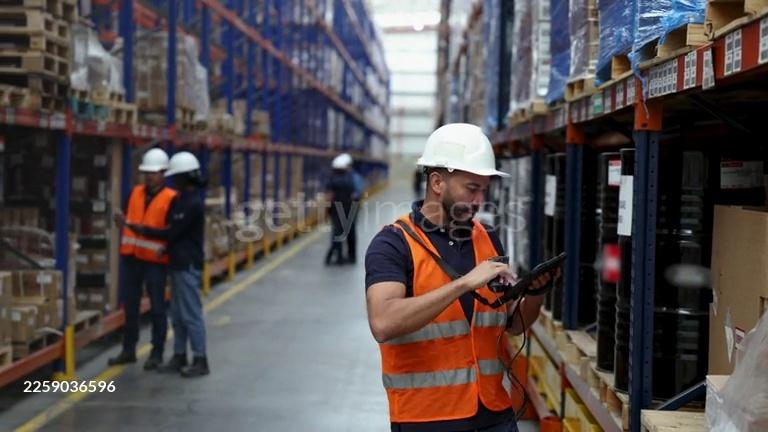helmet: (414, 123, 511, 178), (164, 152, 200, 178), (139, 149, 170, 172), (331, 154, 352, 170)
person: (362, 123, 554, 432), (140, 152, 210, 378), (110, 145, 180, 370), (321, 153, 365, 266)
